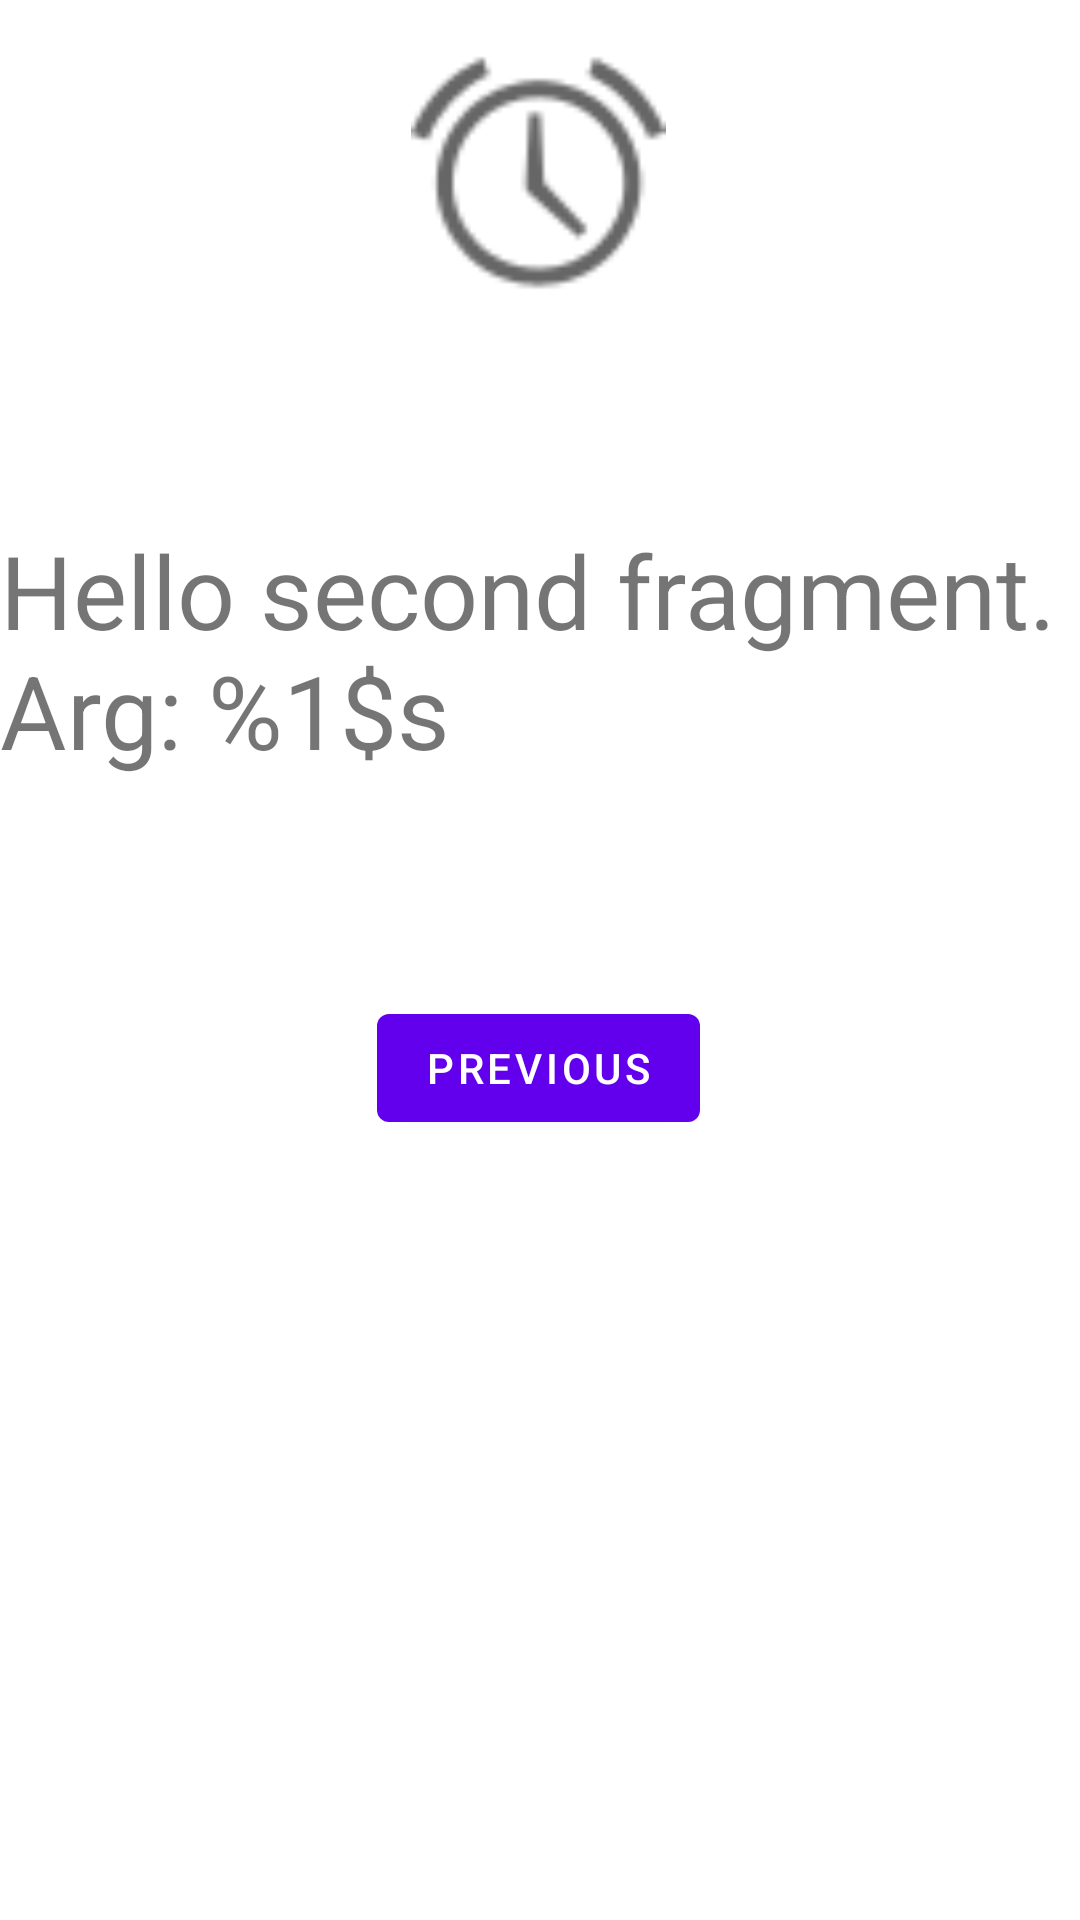

Icons on this 1080w x 1920h Android screen, each with the point to tap as (x=x, y=y):
lock idle alarm: (x=538, y=172)
